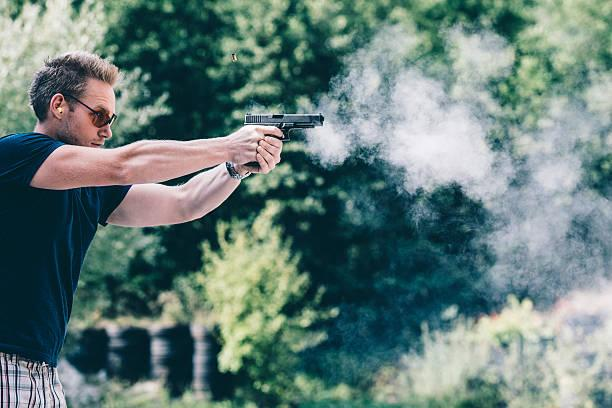weapon: (241, 111, 327, 169)
